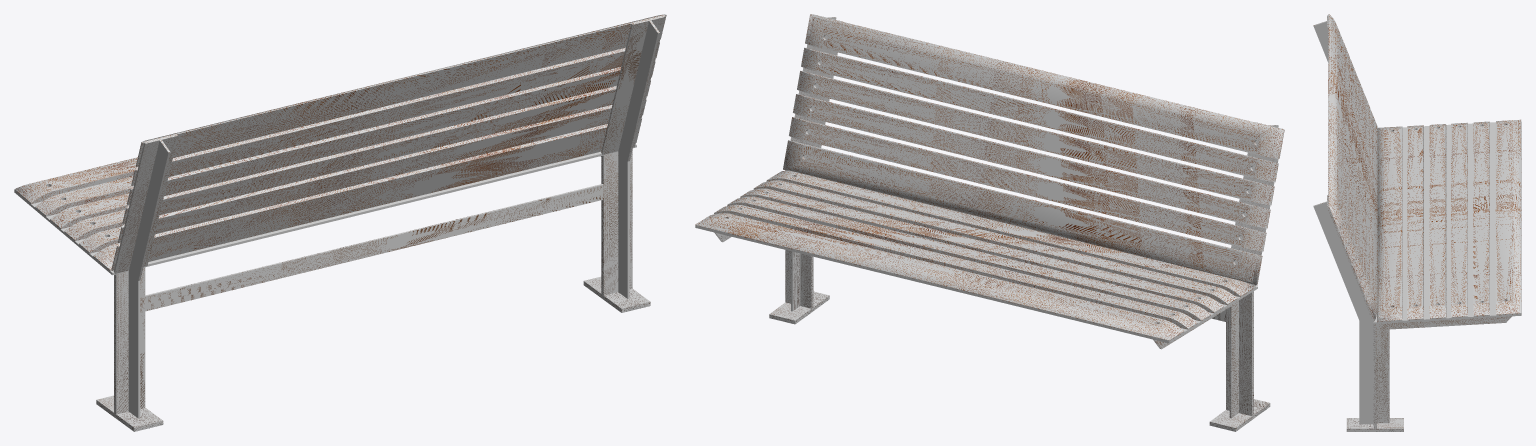
3 views of the same model, side by side, from view 1: azimuth 30°, elevation 25°; view 2: azimuth 150°, elevation 25°; view 3: azimuth 270°, elevation 25° (orthographic). The views are drawn at different scales.
Visible parts, largest first — view 1: mesh25_mesh25-geometry, mesh9_mesh9-geometry, mesh11_mesh11-geometry, mesh13_mesh13-geometry, mesh14_mesh14-geometry, mesh26_mesh26-geometry, mesh27_mesh27-geometry, mesh15_mesh15-geometry, mesh17_mesh17-geometry, mesh1_mesh1-geometry, mesh22_mesh22-geometry, mesh6_mesh6-geometry; view 2: mesh25_mesh25-geometry, mesh9_mesh9-geometry, mesh13_mesh13-geometry, mesh11_mesh11-geometry, mesh27_mesh27-geometry, mesh15_mesh15-geometry, mesh26_mesh26-geometry, mesh22_mesh22-geometry, mesh14_mesh14-geometry, mesh6_mesh6-geometry; view 3: mesh9_mesh9-geometry, mesh25_mesh25-geometry, mesh13_mesh13-geometry, mesh11_mesh11-geometry, mesh6_mesh6-geometry, mesh1_mesh1-geometry, mesh22_mesh22-geometry, mesh15_mesh15-geometry, mesh14_mesh14-geometry, mesh17_mesh17-geometry.
Part boxes in pixels (<box>): mesh25_mesh25-geometry: <box>35,101,406,253</box>; mesh9_mesh9-geometry: <box>372,42,659,181</box>; mesh11_mesh11-geometry: <box>14,14,666,270</box>; mesh13_mesh13-geometry: <box>93,76,641,270</box>; mesh14_mesh14-geometry: <box>601,15,665,310</box>; mesh26_mesh26-geometry: <box>113,134,177,429</box>; mesh27_mesh27-geometry: <box>96,140,383,415</box>; mesh15_mesh15-geometry: <box>365,20,659,296</box>; mesh17_mesh17-geometry: <box>128,141,168,418</box>; mesh1_mesh1-geometry: <box>618,21,657,298</box>; mesh22_mesh22-geometry: <box>14,190,381,275</box>; mesh6_mesh6-geometry: <box>365,145,636,213</box>; mesh25_mesh25-geometry: <box>943,103,1278,329</box>; mesh9_mesh9-geometry: <box>714,47,1045,269</box>; mesh13_mesh13-geometry: <box>695,71,1284,297</box>; mesh11_mesh11-geometry: <box>766,14,1262,341</box>; mesh27_mesh27-geometry: <box>1153,125,1277,429</box>; mesh15_mesh15-geometry: <box>714,17,835,322</box>; mesh26_mesh26-geometry: <box>1231,122,1283,416</box>; mesh22_mesh22-geometry: <box>924,282,1257,343</box>; mesh14_mesh14-geometry: <box>785,14,842,309</box>; mesh6_mesh6-geometry: <box>695,225,940,287</box>; mesh9_mesh9-geometry: <box>1338,130,1489,320</box>; mesh25_mesh25-geometry: <box>1343,42,1489,220</box>; mesh13_mesh13-geometry: <box>1328,14,1521,320</box>; mesh11_mesh11-geometry: <box>1328,107,1521,322</box>; mesh6_mesh6-geometry: <box>1373,215,1521,324</box>; mesh1_mesh1-geometry: <box>1313,202,1373,424</box>; mesh22_mesh22-geometry: <box>1402,122,1521,227</box>; mesh15_mesh15-geometry: <box>1313,201,1511,430</box>; mesh14_mesh14-geometry: <box>1327,195,1375,430</box>; mesh17_mesh17-geometry: <box>1313,21,1328,62</box>.
Bounding box in the file's own units: 0.8154 × 0.4446 × 0.3708.
